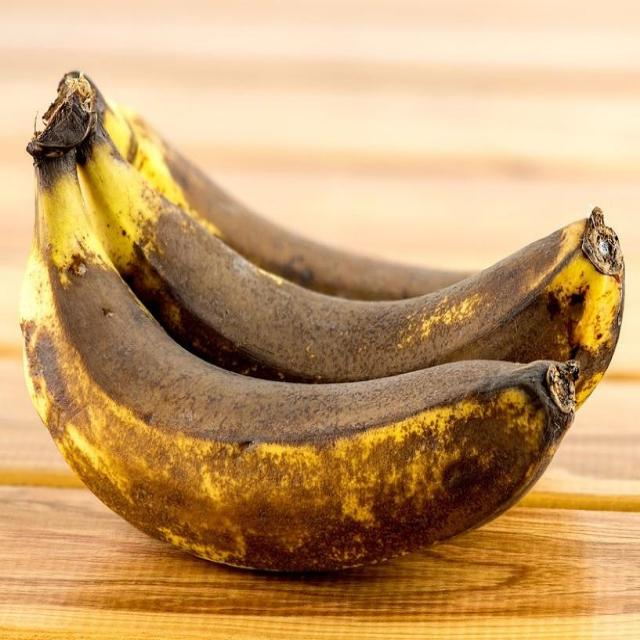Wet Waste: (19, 67, 626, 578)
